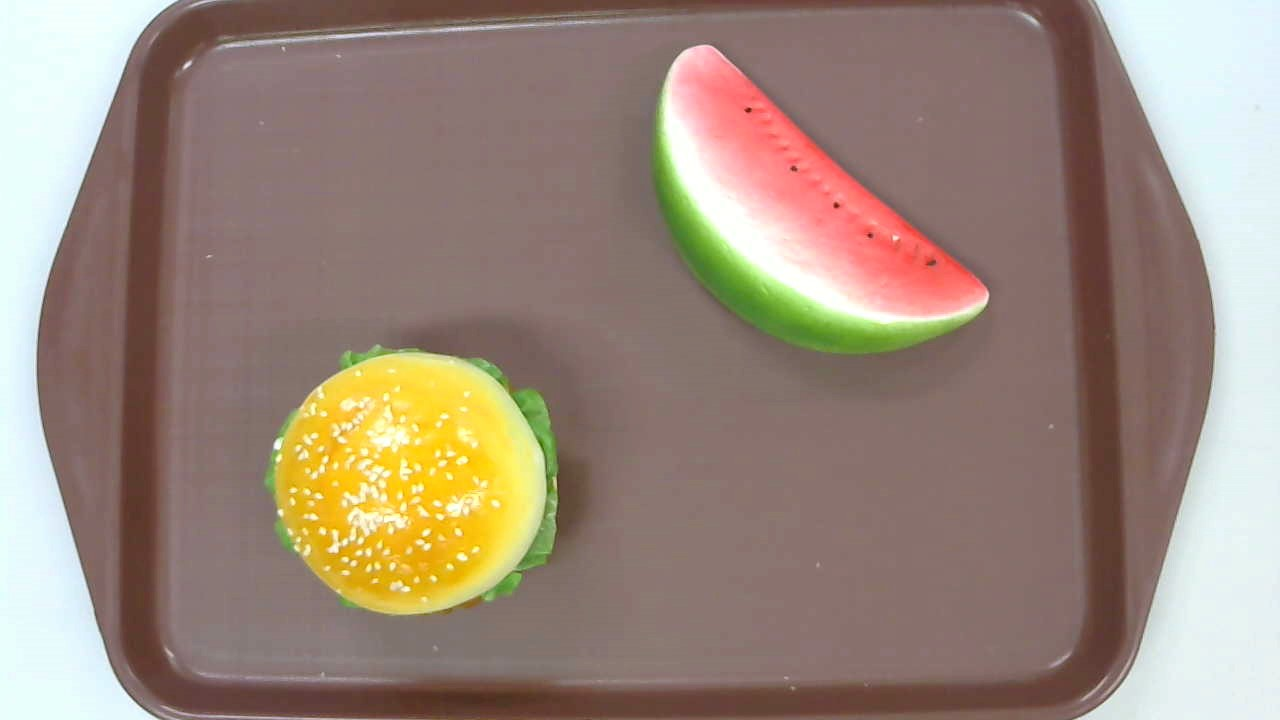hamburger: (263, 343, 560, 615)
water melon: (649, 44, 991, 355)
